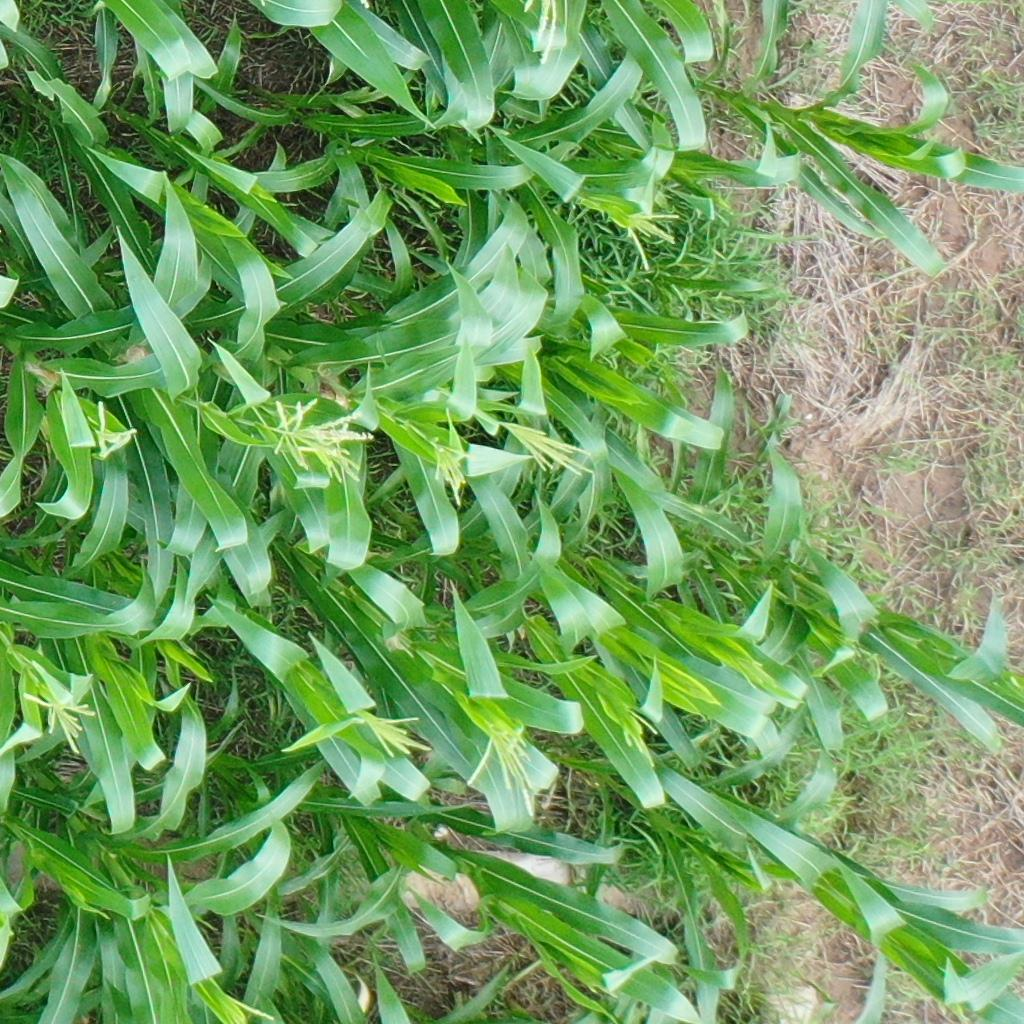Tassel: (267, 398, 374, 481), (463, 724, 541, 818), (505, 417, 596, 481), (20, 685, 98, 757), (359, 708, 435, 761), (626, 210, 679, 274), (88, 398, 138, 459), (433, 440, 472, 507), (525, 1, 563, 66), (620, 705, 659, 765), (735, 649, 778, 691), (218, 995, 275, 1023)
